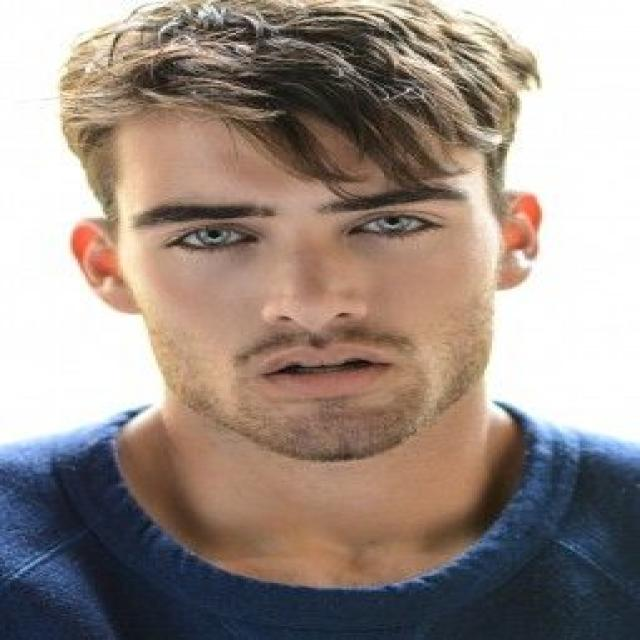earlobe: (495, 259, 528, 293), (104, 283, 140, 314)
eye: (174, 225, 256, 248), (350, 214, 432, 235)
nose: (266, 316, 372, 356)
wholeear: (68, 218, 139, 314), (494, 190, 542, 293)
